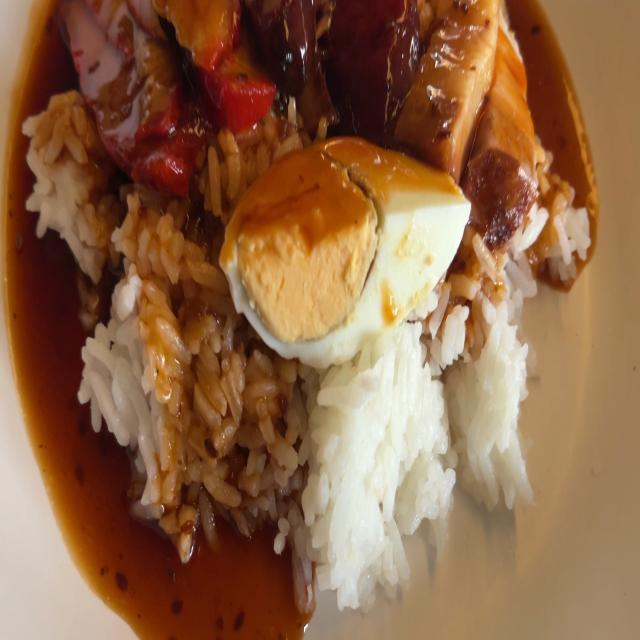01boiled_egg: (208, 130, 469, 344)
01chainese_sausage: (268, 0, 417, 127), (321, 0, 411, 127), (253, 0, 318, 90)
01crispy_pork: (401, 0, 538, 235), (409, 0, 510, 149), (476, 43, 530, 201)
01red_pork: (71, 0, 262, 184), (70, 0, 176, 140), (217, 43, 268, 128), (172, 1, 232, 58)
01red_pork_and_crispy_pork: (26, 0, 585, 597)
01rice: (90, 215, 232, 510), (308, 362, 454, 577), (454, 275, 550, 503), (34, 102, 109, 264), (531, 195, 596, 289)
